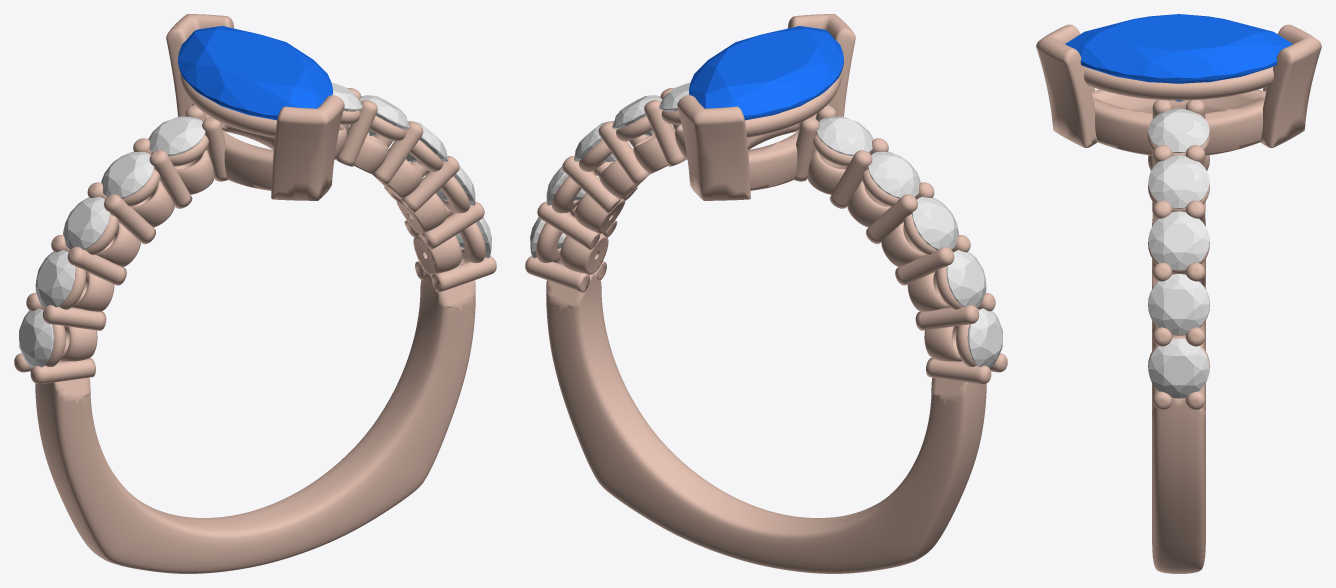
File: bluesapphire-marquise-rosegold-protectededges2prongs-europeanshank-11stone.glb
The picture shows the model from 3 angles, left to right: view 1: azimuth 30°, elevation 25°; view 2: azimuth 150°, elevation 25°; view 3: azimuth 270°, elevation 25°; orthographic projection.
Parts seen in each view (by area): view 1: metal, stone, dia.004, dia.005, dia.003, dia.006, dia, dia.010; view 2: metal, stone, dia.004, dia.005, dia.003, dia.006, dia, dia.010; view 3: metal, stone, dia.008, dia.007, dia.009, dia.010, dia.011.
Boxes of the visible parts, x1=… form: metal: x1=14, y1=14, x2=496, y2=573; stone: x1=178, y1=26, x2=332, y2=120; dia.004: x1=63, y1=196, x2=109, y2=249; dia.005: x1=101, y1=151, x2=154, y2=198; dia.003: x1=35, y1=250, x2=75, y2=307; dia.006: x1=148, y1=116, x2=205, y2=155; dia: x1=19, y1=308, x2=54, y2=367; dia.010: x1=359, y1=95, x2=409, y2=135; metal: x1=525, y1=14, x2=1007, y2=573; stone: x1=689, y1=26, x2=843, y2=120; dia.004: x1=912, y1=196, x2=958, y2=249; dia.005: x1=867, y1=151, x2=920, y2=198; dia.003: x1=946, y1=250, x2=986, y2=307; dia.006: x1=816, y1=116, x2=873, y2=155; dia: x1=967, y1=308, x2=1002, y2=367; dia.010: x1=612, y1=95, x2=662, y2=135; metal: x1=1036, y1=24, x2=1321, y2=573; stone: x1=1065, y1=14, x2=1292, y2=101; dia.008: x1=1148, y1=274, x2=1209, y2=334; dia.007: x1=1148, y1=338, x2=1209, y2=398; dia.009: x1=1148, y1=211, x2=1209, y2=270; dia.010: x1=1148, y1=155, x2=1209, y2=208; dia.011: x1=1148, y1=108, x2=1209, y2=153.
Bounding box in the file's own units: 21.97 × 22.73 × 11.69.
